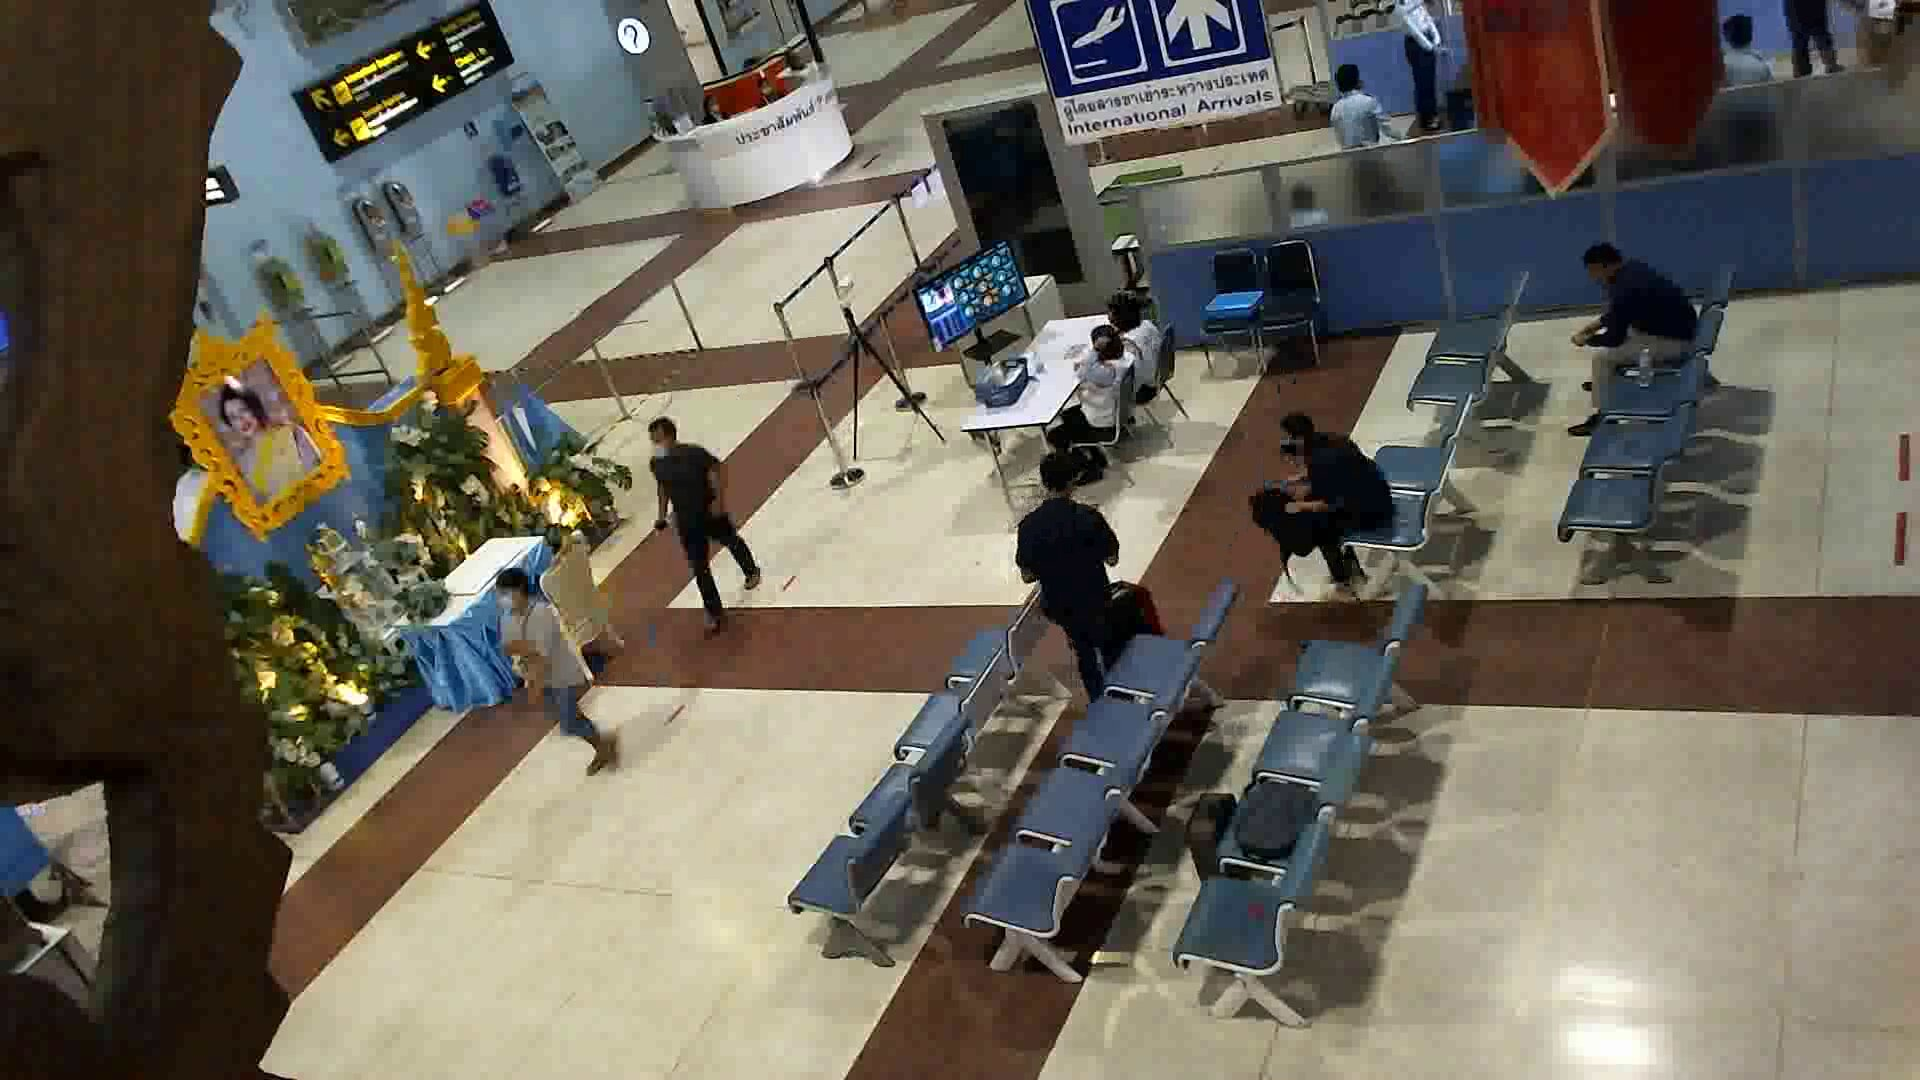backpack: (1237, 766, 1314, 865), (1253, 484, 1312, 565)
luggage: (1176, 780, 1254, 911), (1089, 572, 1168, 680)
people: (1010, 445, 1133, 699), (641, 401, 770, 638), (491, 566, 624, 788), (1566, 236, 1703, 441), (1281, 415, 1418, 616), (1049, 328, 1143, 484), (1091, 284, 1176, 413)
